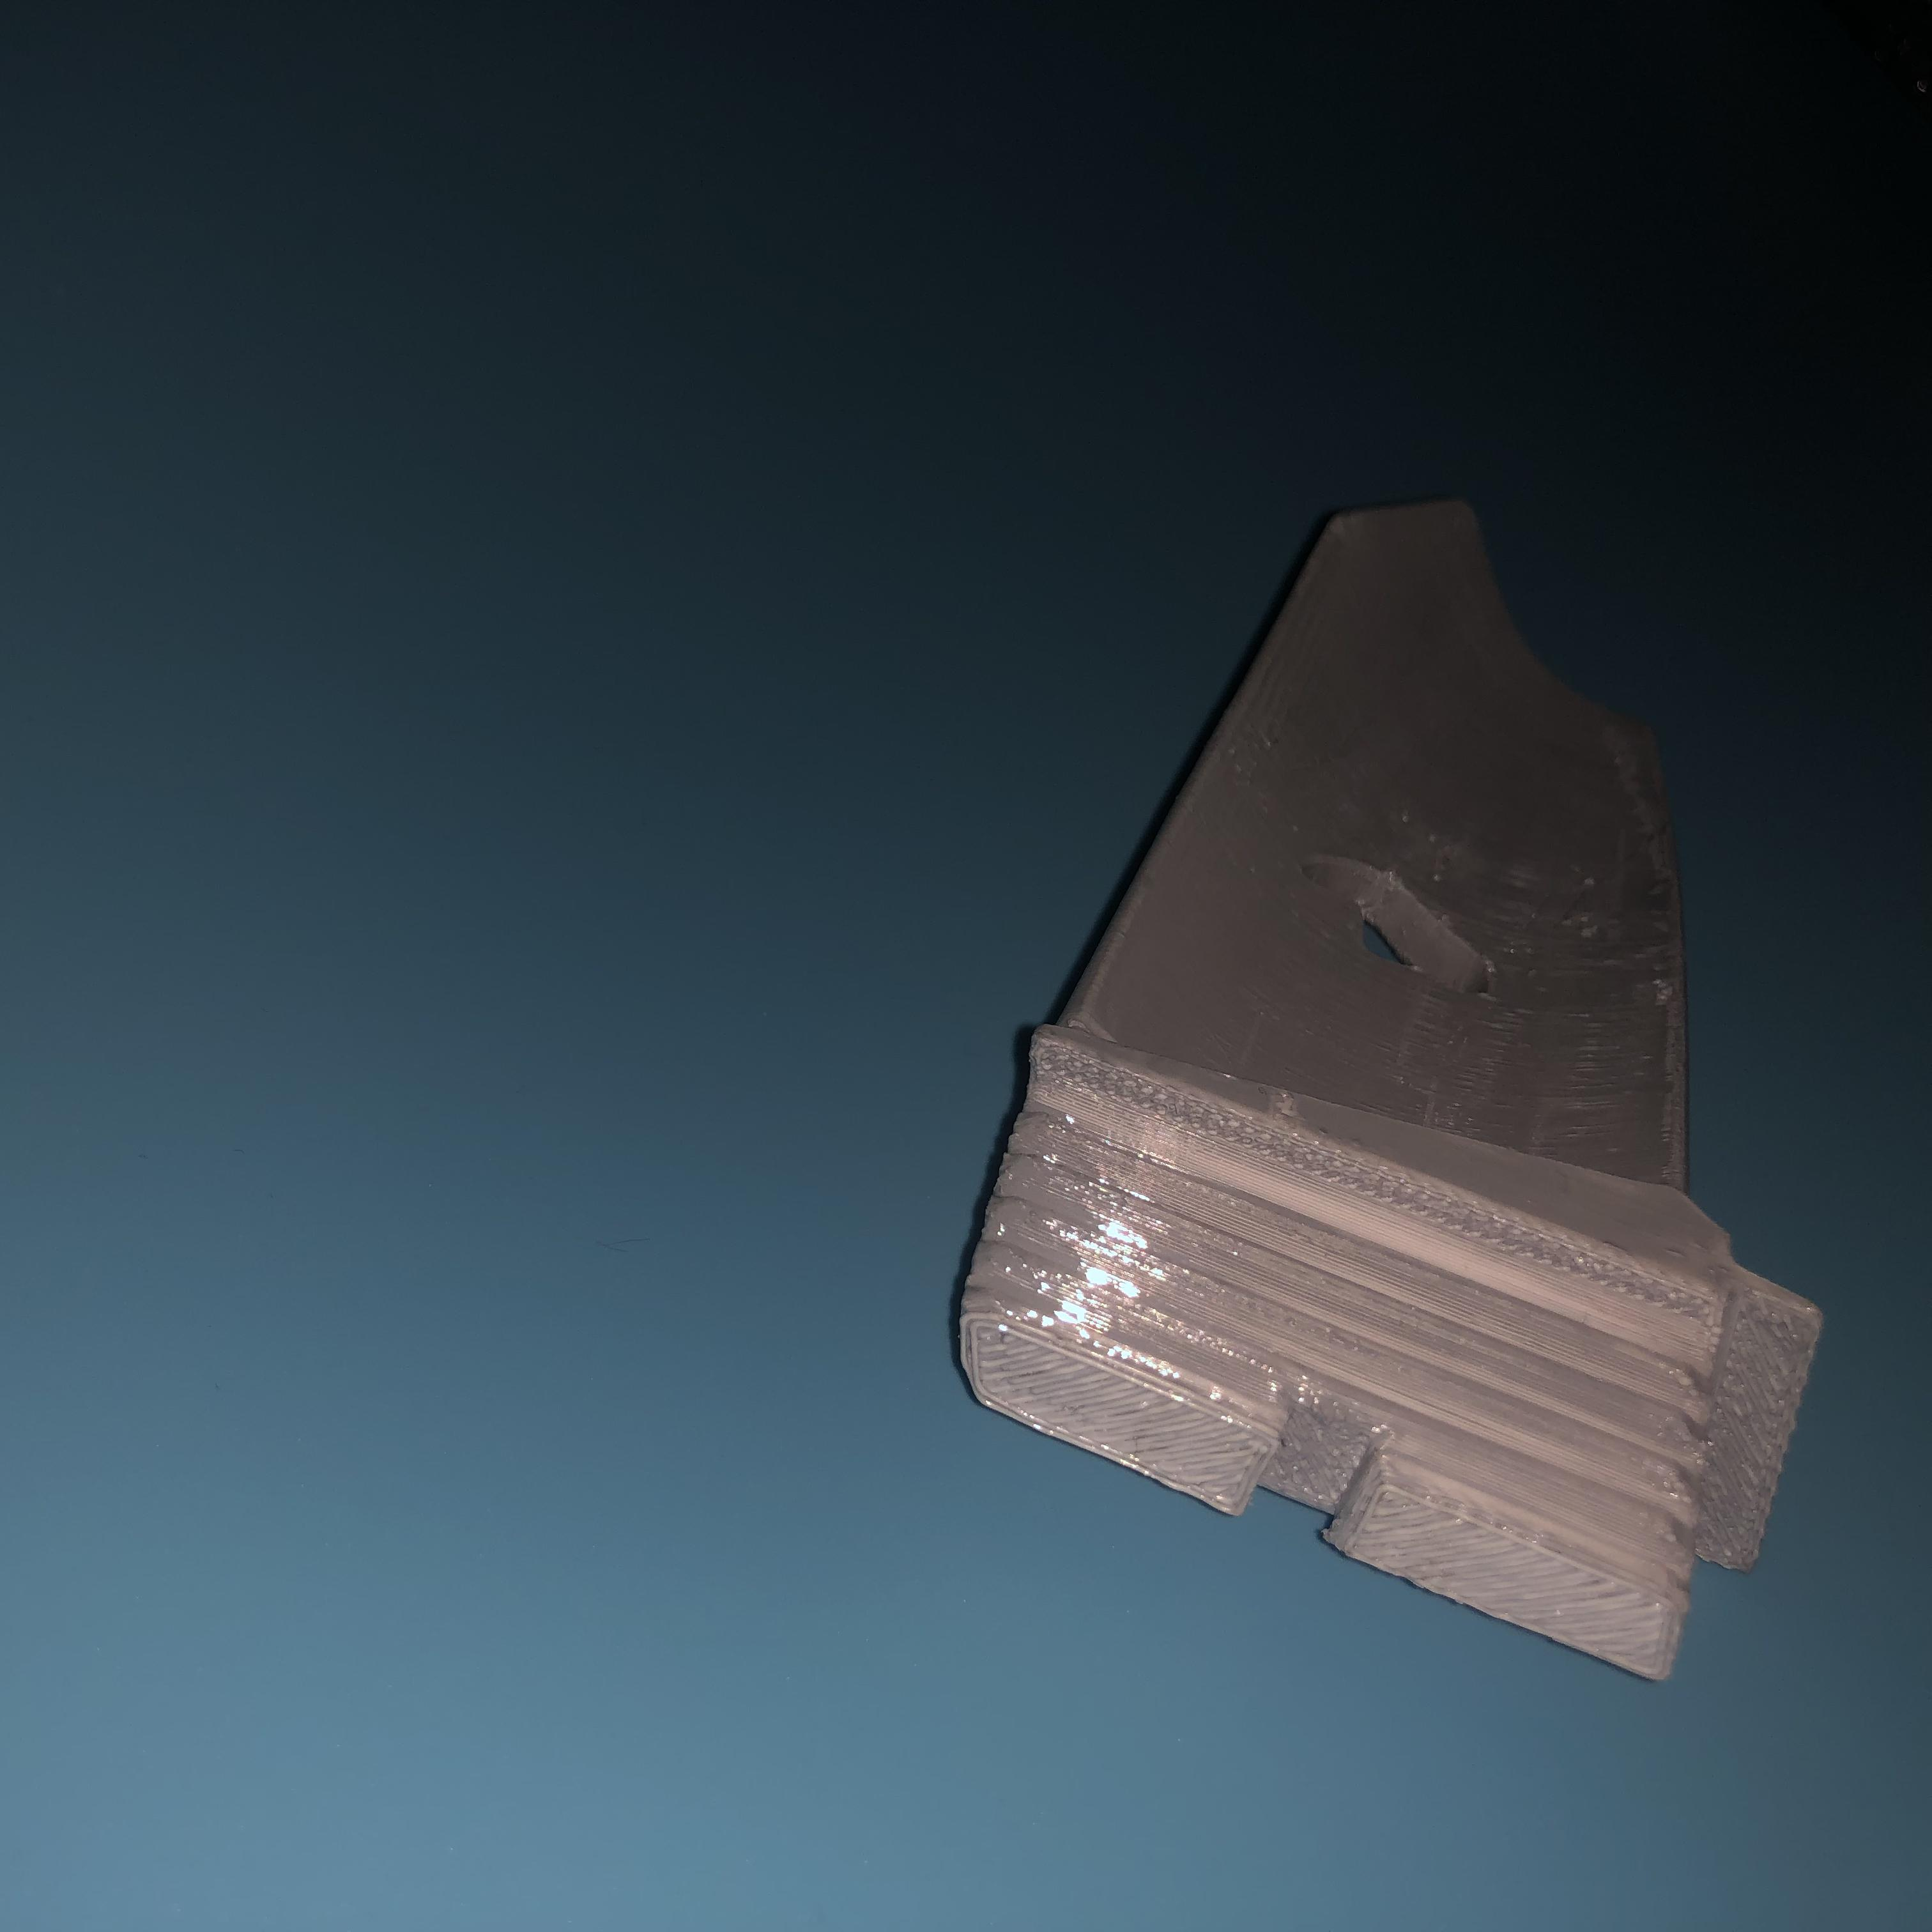breakdown: (1306, 853, 1516, 1005)
